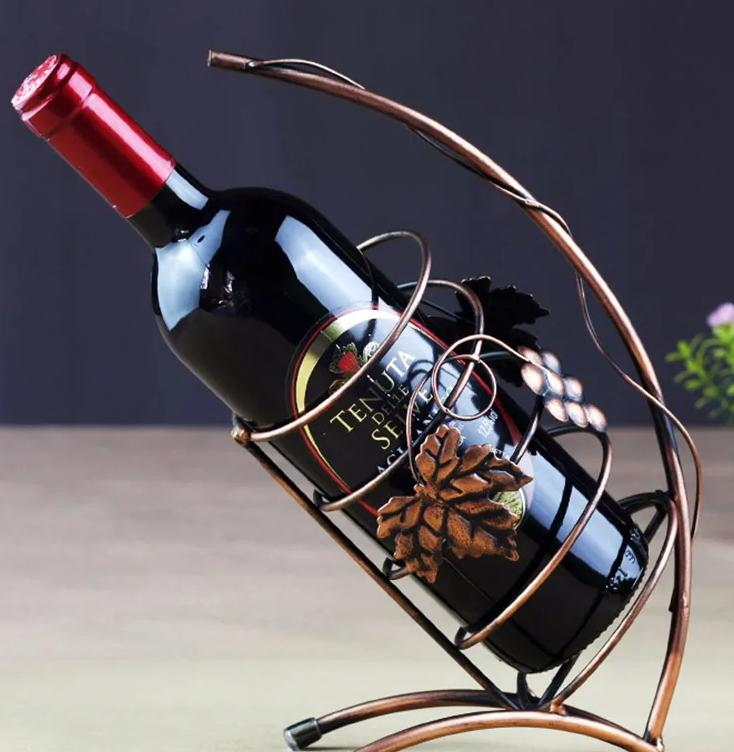wine bottle: (6, 45, 649, 679)
wine label: (288, 303, 539, 554)
